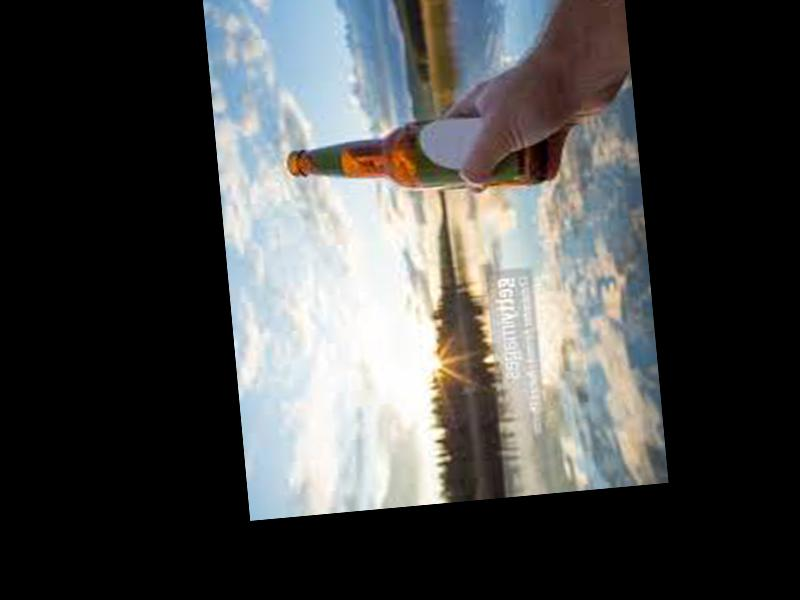Beer: (282, 108, 547, 210)
